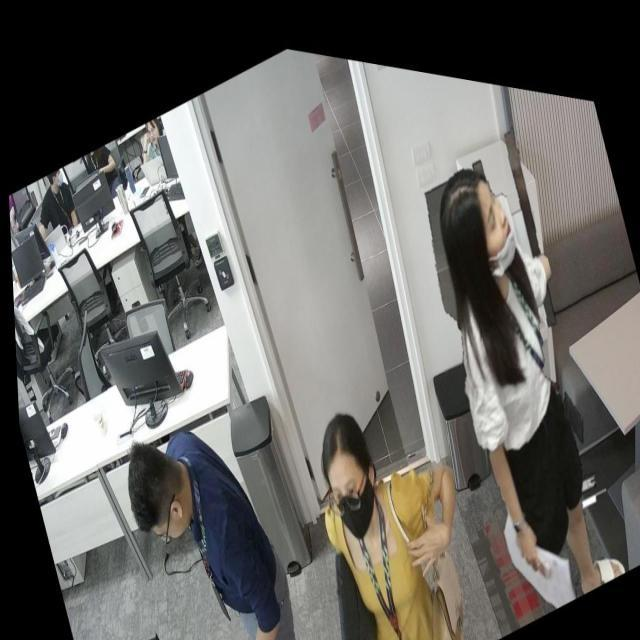hairnet: (467, 170, 521, 290)
